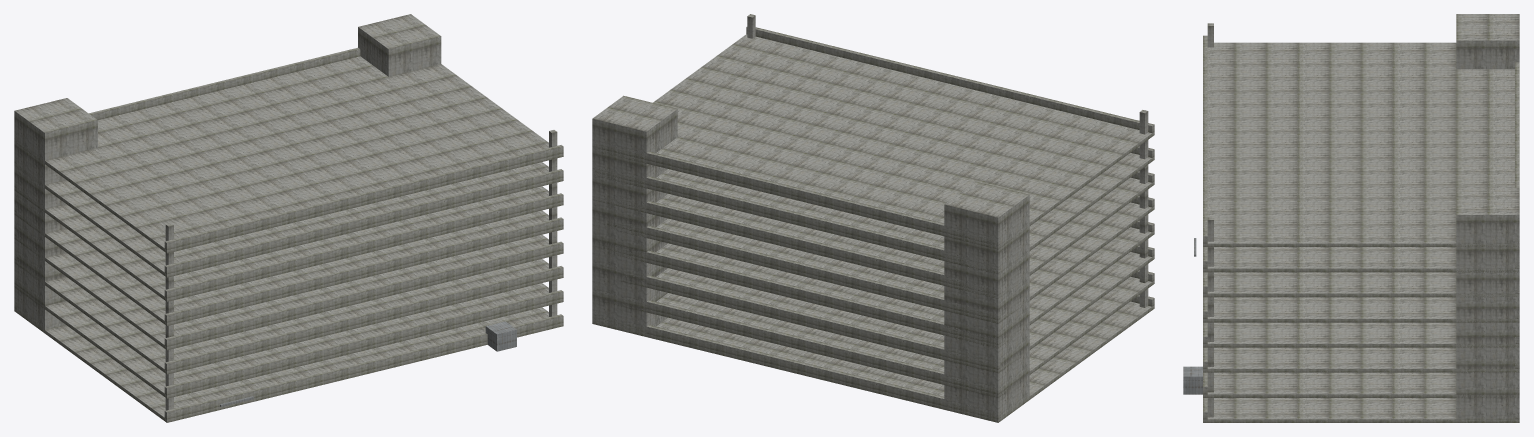
The model's file is parking-deck_lod0.gltf.
3 views of the same model, side by side, from view 1: azimuth 30°, elevation 25°; view 2: azimuth 150°, elevation 25°; view 3: azimuth 270°, elevation 25° (orthographic). The views are drawn at different scales.
Parts seen in each view (by area): view 1: parking-deck_decks, parking-deck_stairs, parking-deck_columns, parking-deck__ticket_booth; view 2: parking-deck_decks, parking-deck_stairs, parking-deck_columns; view 3: parking-deck_decks, parking-deck_stairs, parking-deck_columns, parking-deck__ticket_booth.
Part boxes in pixels (box(x1,y1,x2,y2)): parking-deck_decks: box(14, 47, 563, 422); parking-deck_stairs: box(14, 14, 441, 333); parking-deck_columns: box(165, 130, 557, 410); parking-deck__ticket_booth: box(485, 321, 516, 351); parking-deck_decks: box(592, 27, 1154, 422); parking-deck_stairs: box(592, 95, 1029, 422); parking-deck_columns: box(747, 14, 1148, 307); parking-deck_decks: box(1203, 35, 1519, 422); parking-deck_stairs: box(1456, 14, 1519, 422); parking-deck_columns: box(1207, 23, 1213, 417); parking-deck__ticket_booth: box(1183, 366, 1202, 394).
Size of the model in its own units: 60 by 29 by 42.5.
